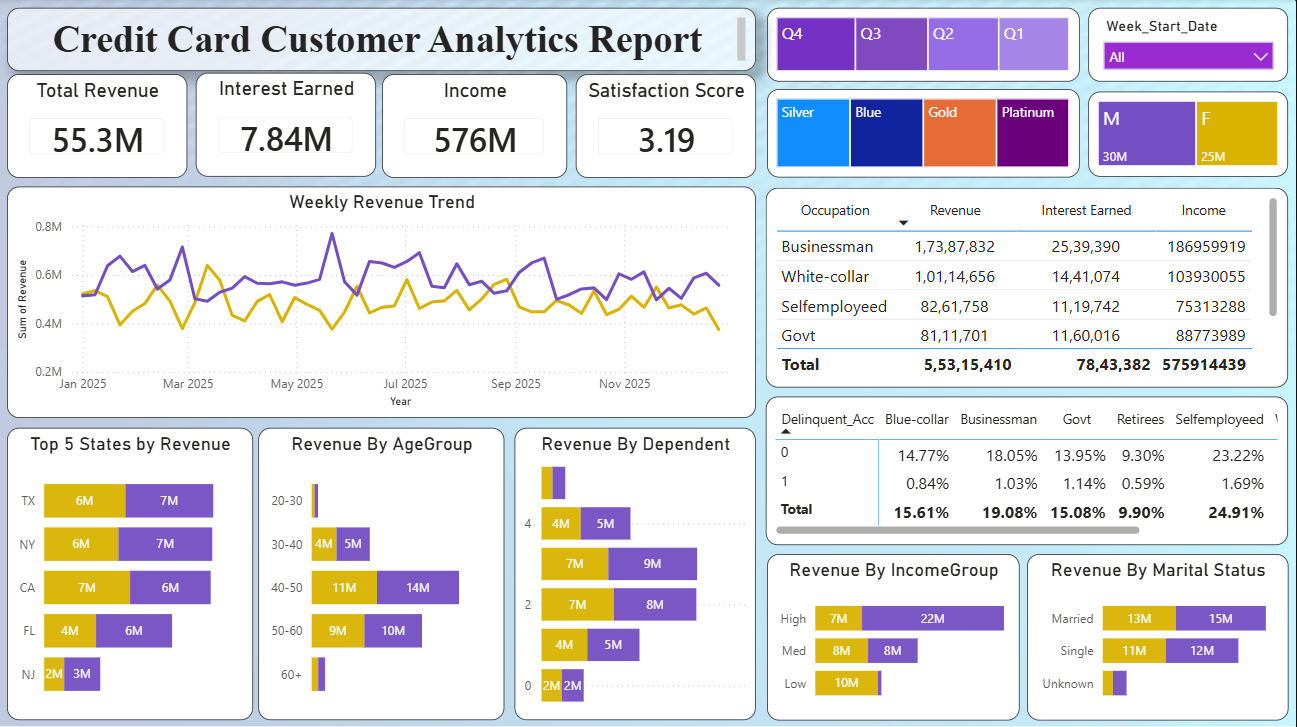

This screenshot's page, from the dashboard's own definition file:
{"tool":"powerbi","page":{"name":"Weekely Customer Report","canvas":[1280,720],"ordinal":1},"visuals":[{"type":"treemap","fields":{"Group":["credit_card_db credit_card_details.Qtr"],"Values":["Avg(credit_card_db credit_card_details.Client_Num)"]},"box":[758.3,8.6,307.8,72.6],"z":0},{"type":"slicer","fields":{"Values":["credit_card_db credit_card_details.Week_Start_Date"]},"box":[1074.7,8.6,197,72.6],"z":1000},{"type":"textbox","box":[9.8,8.6,737.4,62.8],"z":2000},{"type":"cardVisual","title":"Total Revenue","fields":{"Data":["Sum(credit_card_db credit_card_details.Revenue)"]},"box":[9.8,73.9,177.3,102.2],"z":3000},{"type":"cardVisual","title":"Income","fields":{"Data":["Sum(credit_card_db cust_detail.Income)"]},"box":[379.2,73.9,182.2,102.2],"z":4000},{"type":"cardVisual","title":"Interest Earned","fields":{"Data":["Sum(credit_card_db credit_card_details.Interest_Earned)"]},"box":[195.7,72.6,177.3,102.2],"z":5000},{"type":"cardVisual","title":"Satisfaction Score","fields":{"Data":["Avg(credit_card_db cust_detail.Cust_Satisfaction_Score)"]},"box":[570,73.9,177.3,102.2],"z":6000},{"type":"barChart","title":"Revenue By IncomeGroup","fields":{"Y":["Sum(credit_card_db credit_card_details.Revenue)"],"Category":["credit_card_db cust_detail.IncomeGroup"],"Series":["credit_card_db cust_detail.Gender"]},"box":[758.3,546.6,248.7,163.7],"z":7000},{"type":"lineChart","title":"Weekly Revenue Trend","fields":{"Y":["Sum(credit_card_db credit_card_details.Revenue)"],"Series":["credit_card_db cust_detail.Gender"],"Category":["credit_card_db credit_card_details.Week_Start_Date.Variation.Date Hierarchy.Year","credit_card_db credit_card_details.Week_Start_Date.Variation.Date Hierarchy.Month","credit_card_db credit_card_details.Week_Start_Date.Variation.Date Hierarchy.Day"]},"box":[9.8,184.7,737.4,227.7],"z":8000},{"type":"barChart","title":"Revenue By AgeGroup","fields":{"Y":["Sum(credit_card_db credit_card_details.Revenue)"],"Category":["credit_card_db cust_detail.AgeGroup"],"Series":["credit_card_db cust_detail.Gender"]},"box":[256.9,422.9,242.3,287.8],"z":9000},{"type":"barChart","title":"Top 5 States by Revenue","fields":{"Y":["Sum(credit_card_db credit_card_details.Revenue)"],"Category":["credit_card_db cust_detail.State_cd"],"Series":["credit_card_db cust_detail.Gender"]},"box":[10.3,422.9,242,287.8],"z":10000},{"type":"barChart","title":"Revenue By Marital Status","fields":{"Y":["Sum(credit_card_db credit_card_details.Revenue)"],"Category":["credit_card_db cust_detail.Marital_Status"],"Series":["credit_card_db cust_detail.Gender"]},"box":[1014.4,546.6,257.3,163.7],"z":11000},{"type":"barChart","title":"Revenue By Dependent","fields":{"Y":["Sum(credit_card_db credit_card_details.Revenue)"],"Category":["credit_card_db cust_detail.Dependent_Count"],"Series":["credit_card_db cust_detail.Gender"]},"box":[509.6,422.2,237.6,288.1],"z":12000},{"type":"tableEx","fields":{"Values":["credit_card_db cust_detail.Customer_Job","Sum(credit_card_db credit_card_details.Revenue)","Sum(credit_card_db credit_card_details.Interest_Earned)","Sum(credit_card_db cust_detail.Income)"]},"box":[757.1,185.9,514.6,197],"z":13000},{"type":"treemap","fields":{"Group":["credit_card_db cust_detail.Gender"],"Values":["Sum(credit_card_db credit_card_details.Revenue)"]},"box":[1074.7,91.1,197,83.7],"z":14000},{"type":"treemap","fields":{"Values":["Avg(credit_card_db credit_card_details.Client_Num)"],"Group":["credit_card_db credit_card_details.Card_Category"]},"box":[758.3,88.6,307.8,87.4],"z":15000},{"type":"pivotTable","fields":{"Rows":["credit_card_db credit_card_details.Delinquent_Acc"],"Values":["Sum(credit_card_db credit_card_details.Customer_Acq_Cost)"],"Columns":["credit_card_db cust_detail.Customer_Job"]},"box":[757.1,391.5,514.6,146.5],"z":15001}]}

Visuals, with their boxes in screenshot pixels (x1, y1, x2, y2), scaled from the page's 1280x720 canvas onto the 1297x727 screenshot:
treemap - credit_card_db credit_card_details.Qtr x Avg(credit_card_db credit_card_details.Client_Num): <box>768,9,1080,82</box>
slicer - credit_card_db credit_card_details.Week_Start_Date: <box>1089,9,1289,82</box>
textbox: <box>10,9,757,72</box>
"Total Revenue" cardVisual: <box>10,75,190,178</box>
"Income" cardVisual: <box>384,75,569,178</box>
"Interest Earned" cardVisual: <box>198,73,378,176</box>
"Satisfaction Score" cardVisual: <box>578,75,757,178</box>
"Revenue By IncomeGroup" barChart: <box>768,552,1020,717</box>
"Weekly Revenue Trend" lineChart: <box>10,186,757,416</box>
"Revenue By AgeGroup" barChart: <box>260,427,506,718</box>
"Top 5 States by Revenue" barChart: <box>10,427,256,718</box>
"Revenue By Marital Status" barChart: <box>1028,552,1289,717</box>
"Revenue By Dependent" barChart: <box>516,426,757,717</box>
tableEx - credit_card_db cust_detail.Customer_Job x Sum(credit_card_db credit_card_details.Revenue): <box>767,188,1289,387</box>
treemap - credit_card_db cust_detail.Gender x Sum(credit_card_db credit_card_details.Revenue): <box>1089,92,1289,176</box>
treemap - Avg(credit_card_db credit_card_details.Client_Num) x credit_card_db credit_card_details.Card_Category: <box>768,89,1080,178</box>
pivotTable - credit_card_db credit_card_details.Delinquent_Acc x Sum(credit_card_db credit_card_details.Customer_Acq_Cost): <box>767,395,1289,543</box>
